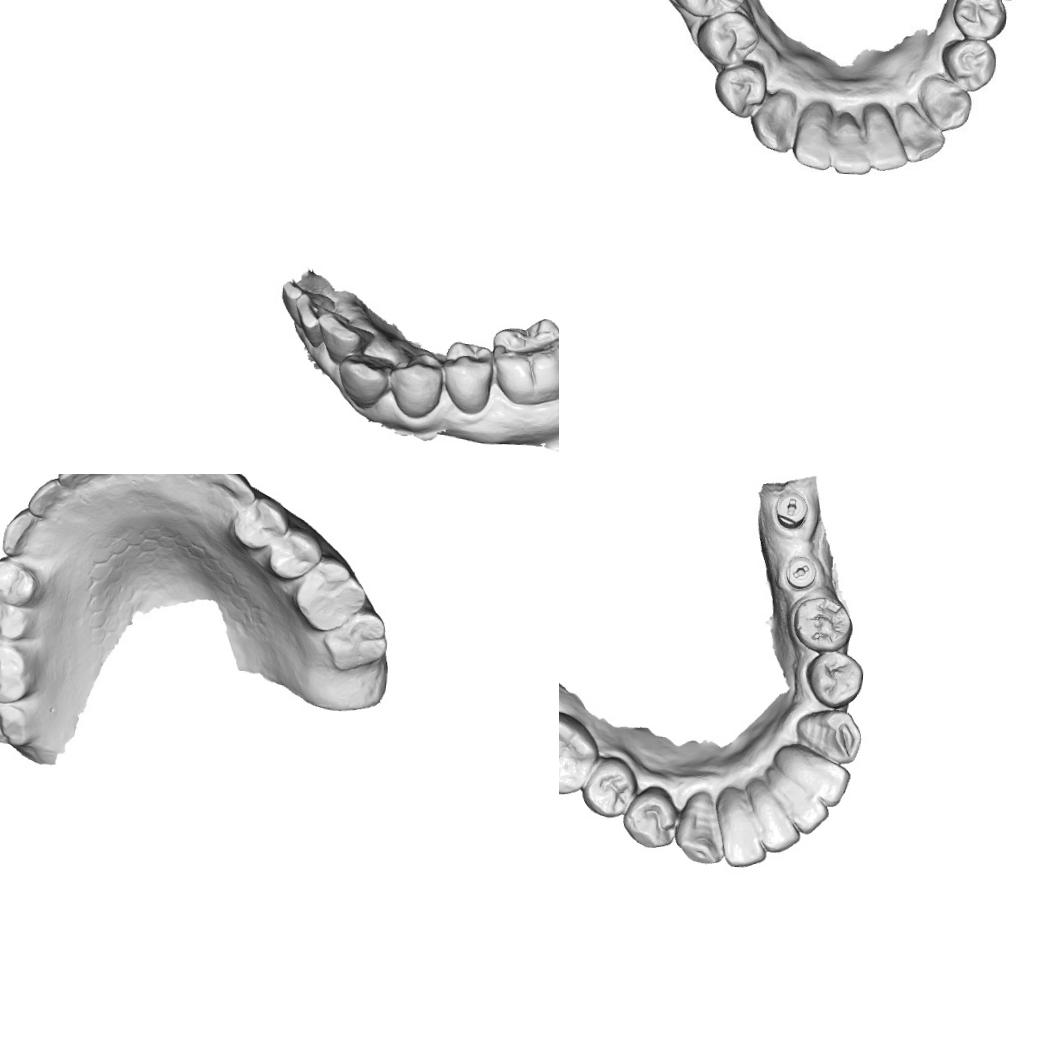canine: (792, 706, 864, 766), (673, 787, 725, 867), (918, 72, 976, 134), (336, 352, 392, 410), (0, 504, 51, 557), (750, 95, 796, 153), (206, 474, 254, 518)
implant_minus: (770, 484, 814, 530), (780, 552, 824, 590)
incisor: (764, 764, 832, 836), (774, 748, 851, 810), (716, 794, 770, 872), (742, 788, 804, 855), (313, 310, 375, 365), (892, 101, 944, 166), (863, 102, 912, 165), (792, 102, 834, 173), (827, 110, 873, 174), (292, 291, 341, 350), (18, 474, 75, 523), (278, 278, 330, 314), (54, 474, 119, 497), (157, 474, 214, 490), (108, 474, 170, 487)
molar: (488, 313, 559, 407), (285, 556, 368, 632), (318, 611, 390, 676), (559, 706, 600, 797), (0, 633, 48, 702), (0, 692, 44, 748), (669, 0, 747, 19)
premolar: (786, 588, 856, 656), (576, 751, 642, 823), (618, 781, 683, 852), (801, 644, 868, 708), (226, 492, 290, 558), (440, 339, 494, 415), (386, 349, 444, 419), (263, 528, 325, 585), (698, 13, 757, 65), (716, 64, 766, 120), (947, 42, 995, 94), (0, 551, 45, 606), (955, 0, 1005, 41), (0, 596, 37, 648)
